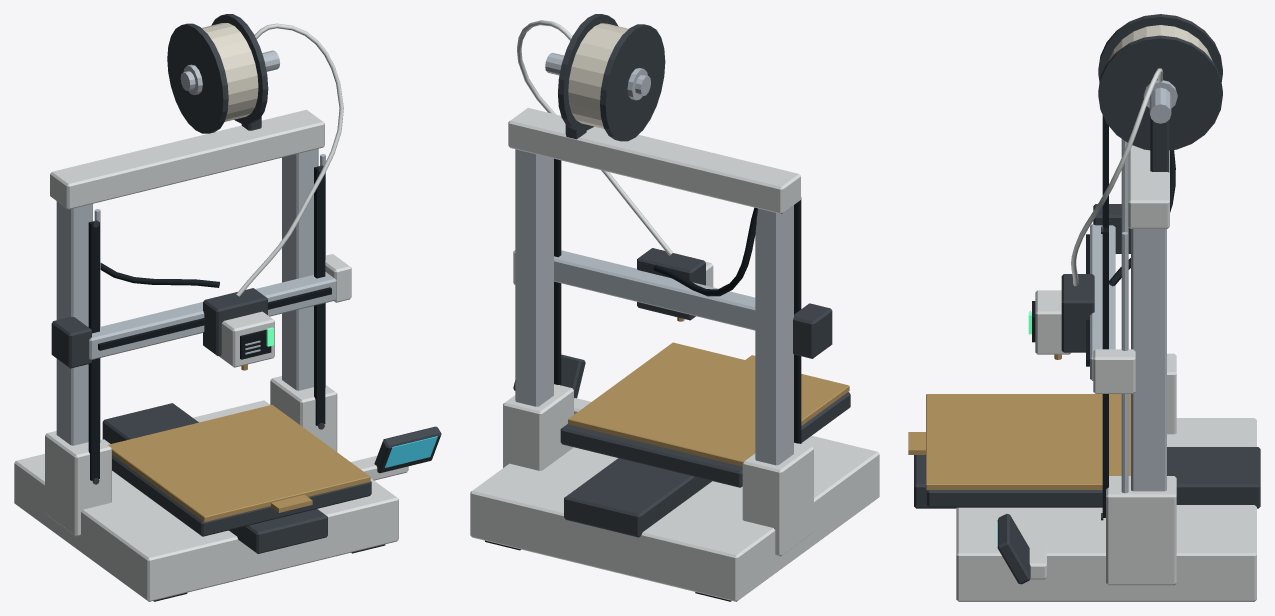
3 renders of one model, left to right at view 1: azimuth 30°, elevation 25°; view 2: azimuth 150°, elevation 25°; view 3: azimuth 270°, elevation 25°, orthographic. The views are drawn at different scales.
Visible parts, largest first — view 1: a1_Porcelain_polymer, a1_Graphite_frame, a1_Brushed_aluminum, a1_Textured_gold_PEI, a1_Rubber_and_belts, a1_Warm_white_filament, a1_Display_glass; view 2: a1_Porcelain_polymer, a1_Brushed_aluminum, a1_Graphite_frame, a1_Textured_gold_PEI, a1_Rubber_and_belts, a1_Warm_white_filament; view 3: a1_Porcelain_polymer, a1_Graphite_frame, a1_Textured_gold_PEI, a1_Brushed_aluminum, a1_Rubber_and_belts, a1_Warm_white_filament.
Part boxes in pixels (left/top/right/bottom): a1_Porcelain_polymer: left=14, top=23, right=408, bottom=601; a1_Graphite_frame: left=51, top=14, right=441, bottom=553; a1_Brushed_aluminum: left=56, top=50, right=336, bottom=445; a1_Textured_gold_PEI: left=108, top=364, right=370, bottom=522; a1_Rubber_and_belts: left=88, top=165, right=385, bottom=601; a1_Warm_white_filament: left=202, top=23, right=258, bottom=121; a1_Display_glass: left=385, top=436, right=437, bottom=467; a1_Porcelain_polymer: left=470, top=20, right=879, bottom=601; a1_Brushed_aluminum: left=515, top=53, right=793, bottom=465; a1_Graphite_frame: left=513, top=14, right=850, bottom=537; a1_Textured_gold_PEI: left=568, top=317, right=849, bottom=466; a1_Rubber_and_belts: left=485, top=158, right=801, bottom=601; a1_Warm_white_filament: left=568, top=23, right=628, bottom=128; a1_Porcelain_polymer: left=956, top=68, right=1256, bottom=601; a1_Graphite_frame: left=914, top=14, right=1260, bottom=584; a1_Textured_gold_PEI: left=908, top=354, right=1130, bottom=490; a1_Brushed_aluminum: left=1029, top=80, right=1177, bottom=493; a1_Rubber_and_belts: left=1032, top=115, right=1175, bottom=517; a1_Warm_white_filament: left=1108, top=25, right=1212, bottom=60.
Bounding box in the file's own units: 0.5505 × 0.762 × 0.4575.
